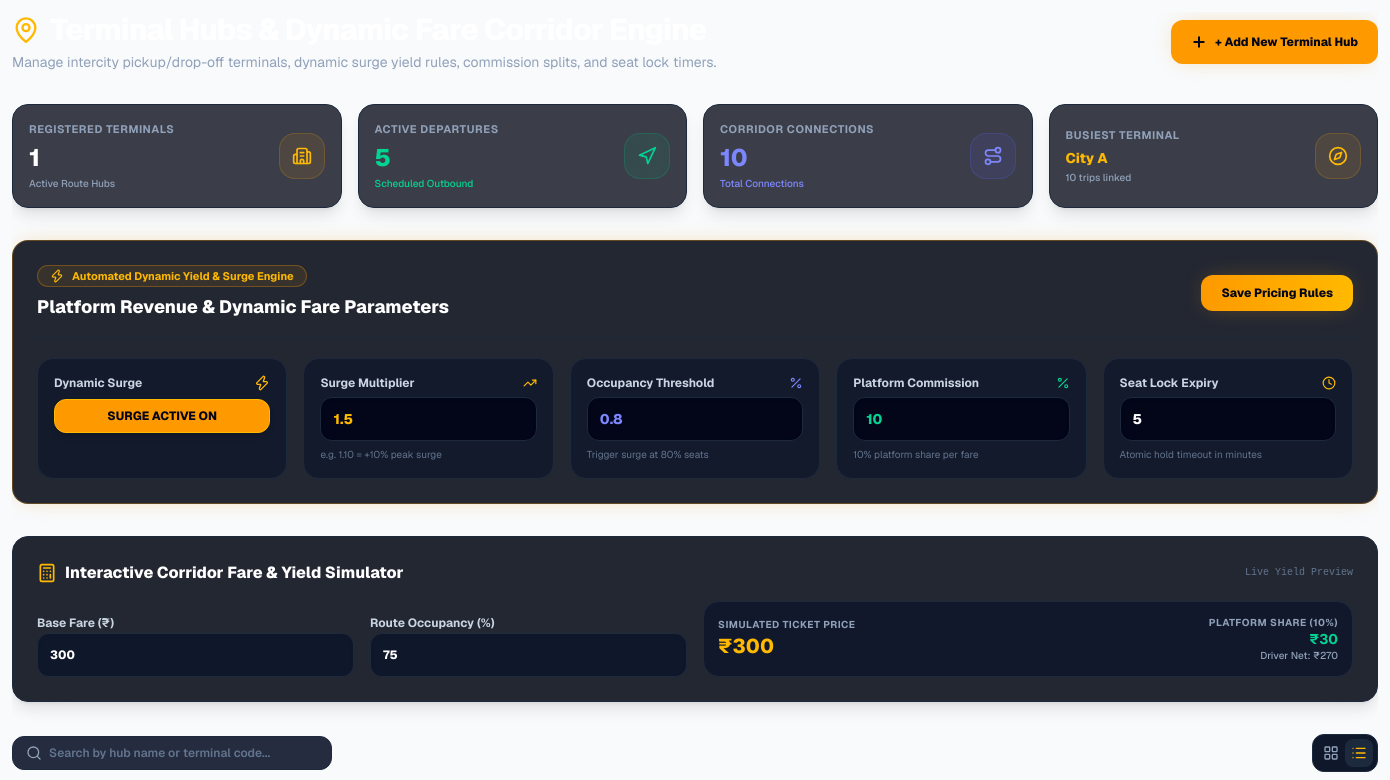
Test: Admin Dashboard - Locations Management › calculates simulated fare correctly
The width and height of the screenshot is (1390, 780).
// Changing occupancy to 85% to trigger surge (threshold is 0.8 / 80%)
Replace the text in the number field showing "75" below "Route Occupancy (%)" with "85" at coordinates (528, 655), box [370,633,687,677]
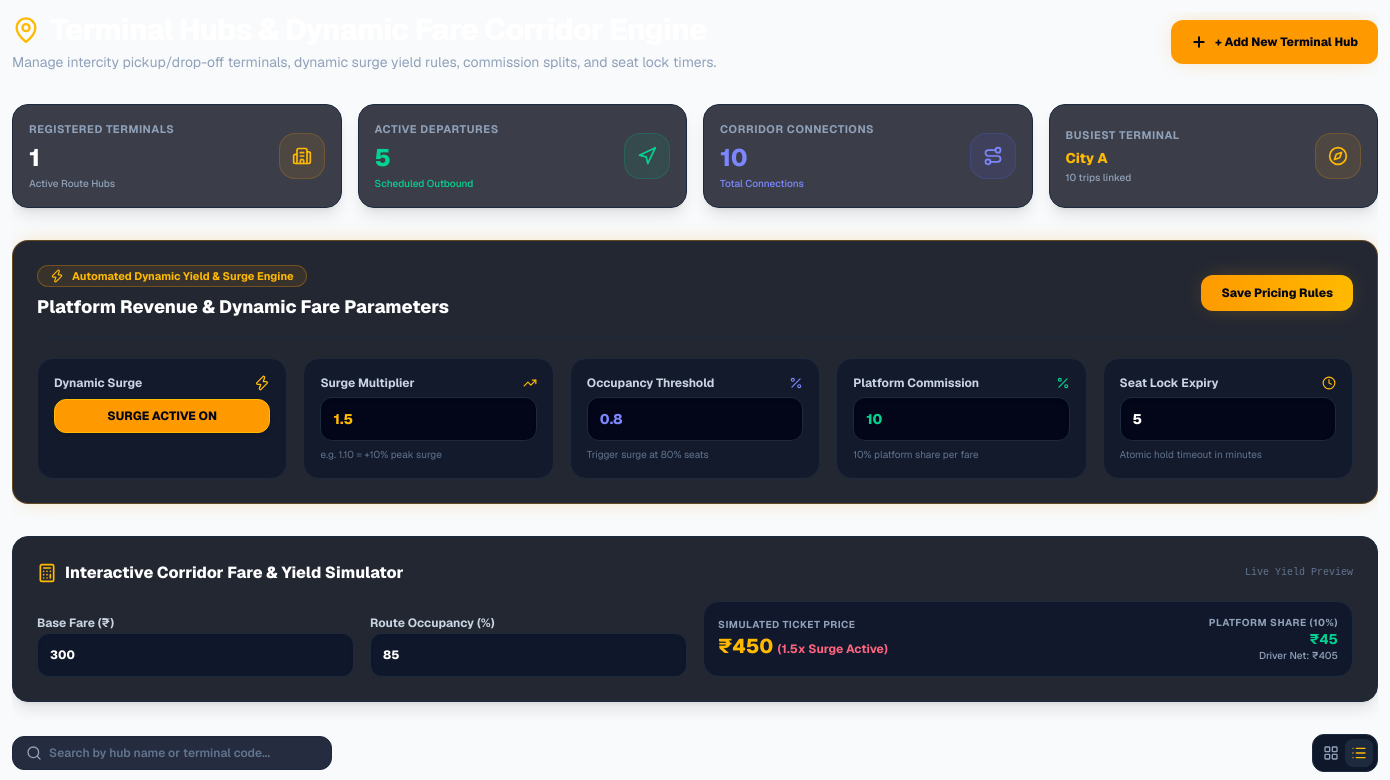
Check: the text "₹450" is shown, box [718,633,888,659]
